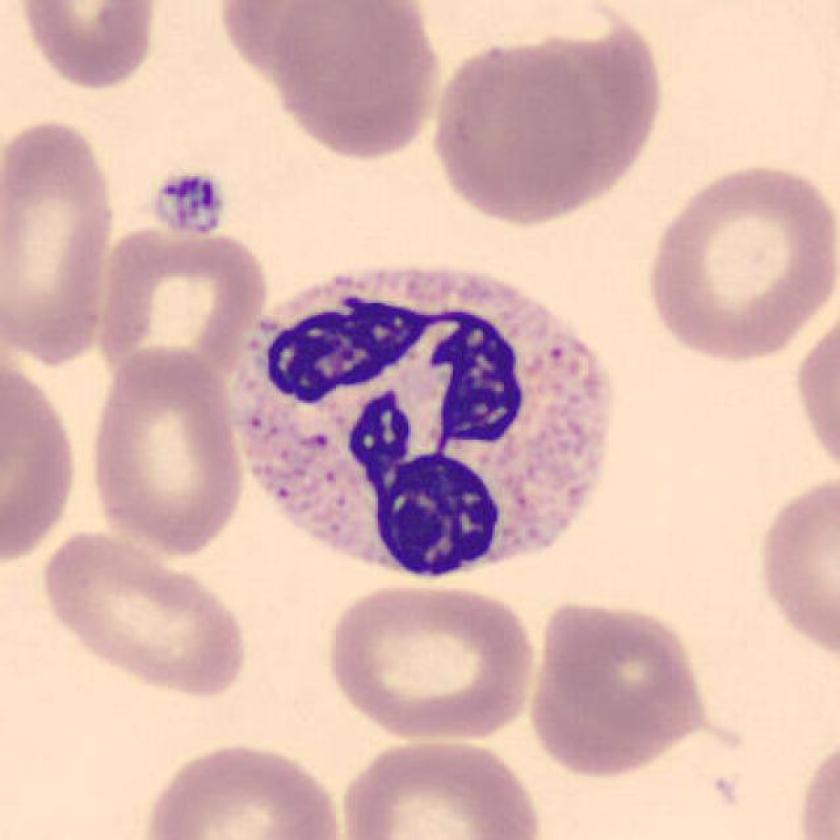neutrophil: (228, 266, 610, 577)
